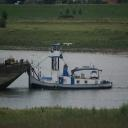tugboat: (29, 43, 116, 92)
